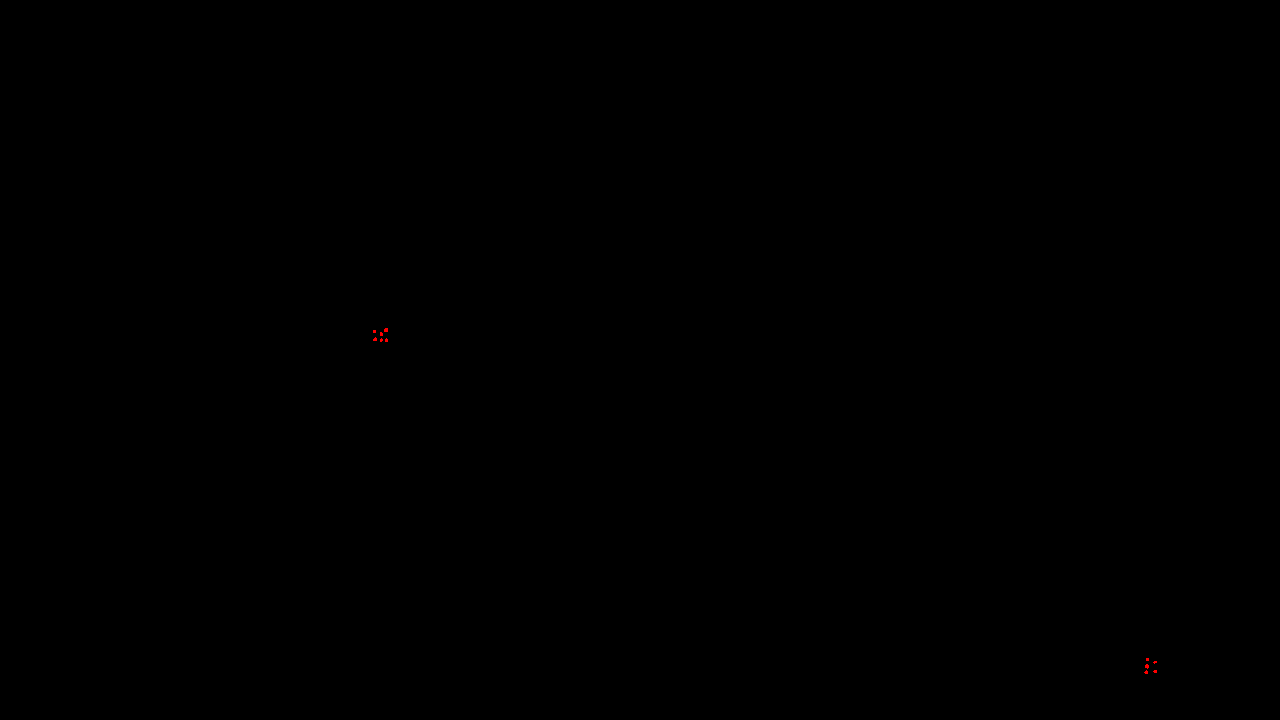Target: (1145, 664, 1149, 669), (384, 328, 388, 332), (373, 337, 377, 341), (1144, 670, 1148, 674), (380, 332, 383, 336), (380, 338, 383, 342), (385, 338, 388, 342), (1153, 661, 1157, 664), (1153, 670, 1157, 673), (373, 330, 376, 333), (1146, 658, 1149, 661)
